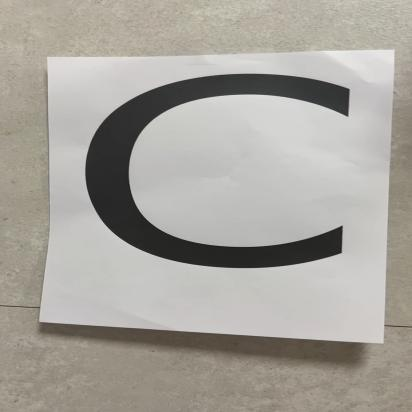seat: (75, 62, 412, 328)
